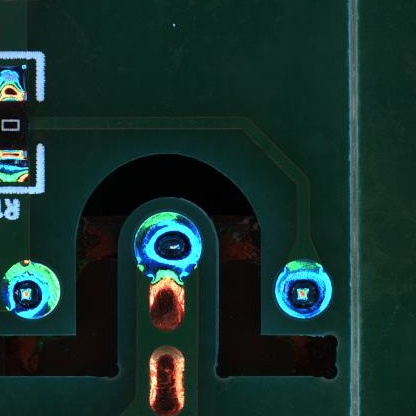spot: (131, 211, 206, 276), (274, 259, 334, 320), (2, 259, 61, 321)
